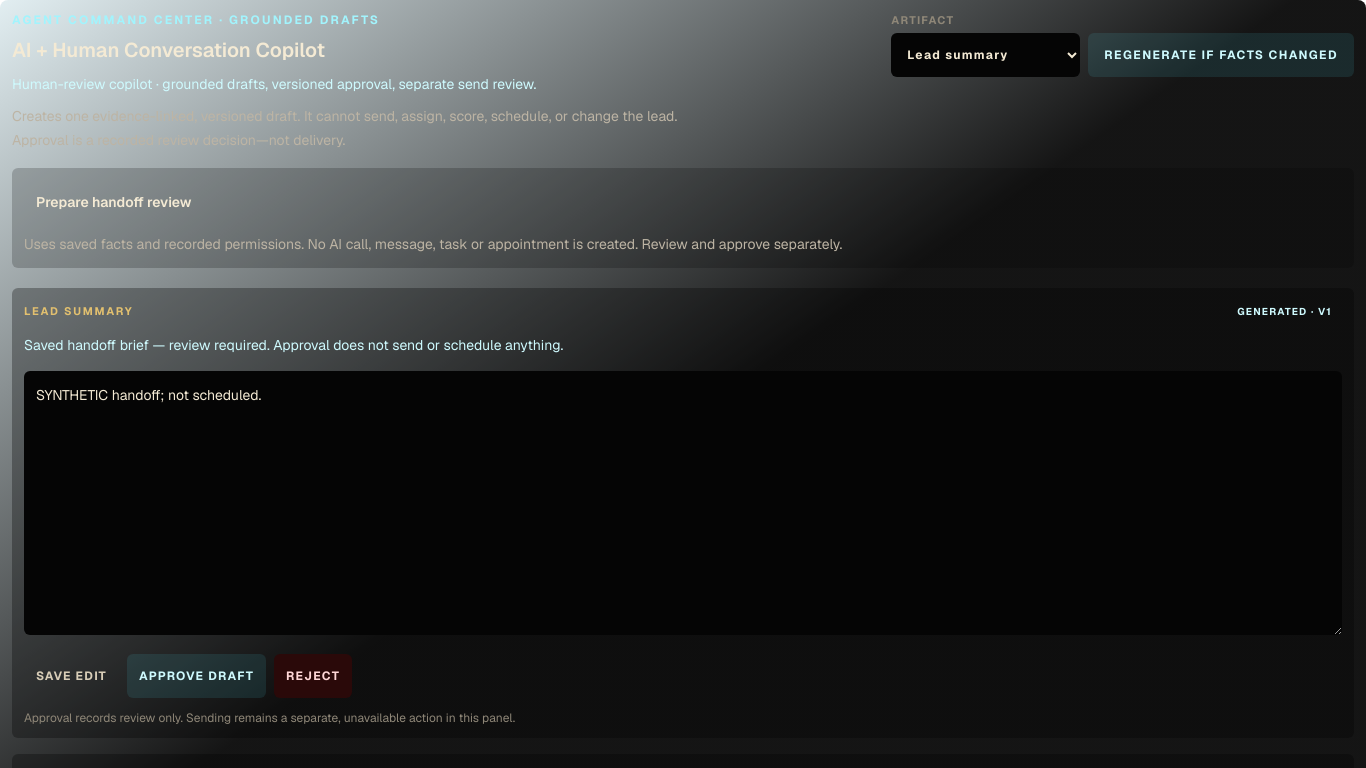
Scenario: handoff panel synthetic component responses (not session/SQL proof) › retains approval truth on reload and removes approval after an expired response
The image size is (1366, 768).
Click the button "Approve draft".
click(197, 676)  # box [127, 654, 266, 698]
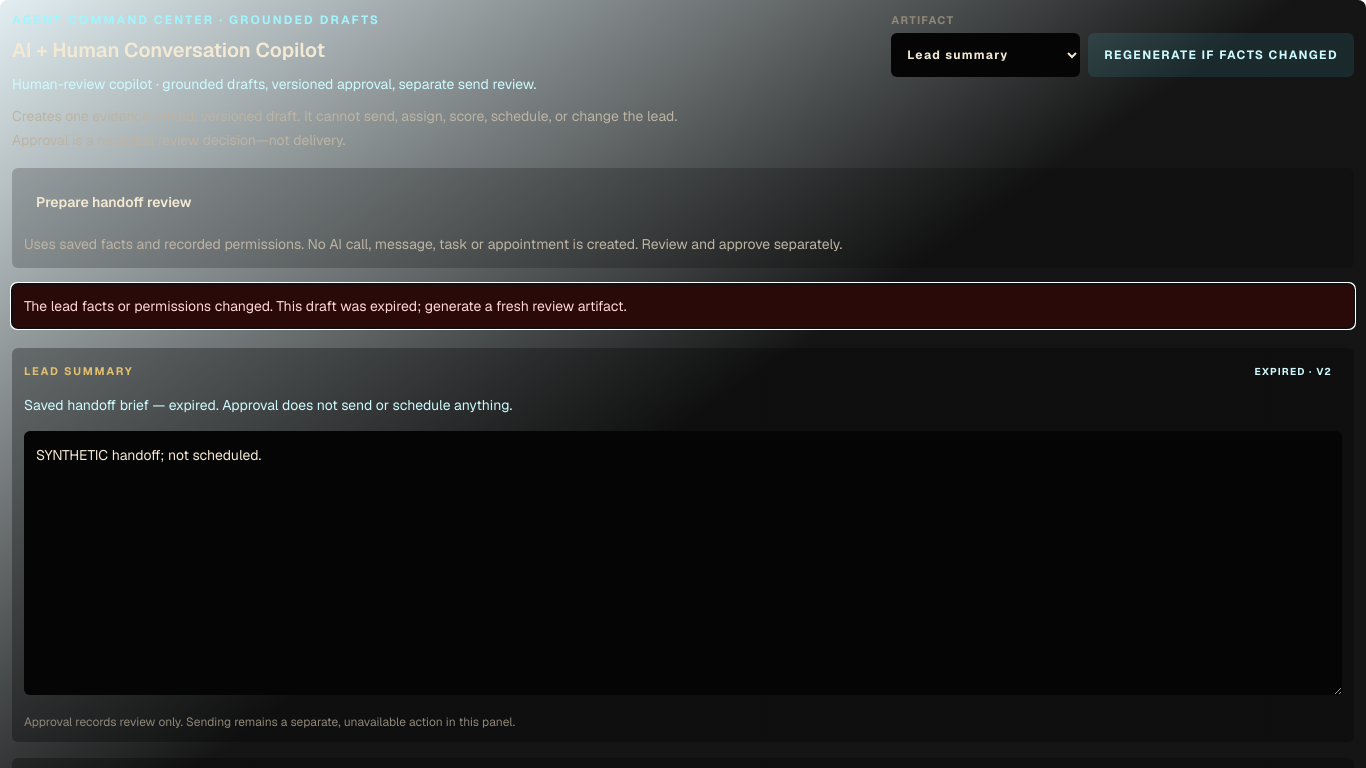
Now the 1st message shows "draft was expired", box [24, 297, 627, 315]
Now the button "Approve draft" is gone
Now the message "Saved handoff brief — expired. Approval does not send or schedule anything." is shown, box [24, 396, 512, 414]
